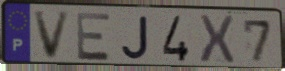4: (162, 15, 191, 63)
7: (241, 19, 274, 64)
E: (75, 11, 113, 62)
J: (120, 15, 151, 62)
V: (32, 10, 73, 61)
X: (197, 13, 237, 65)
